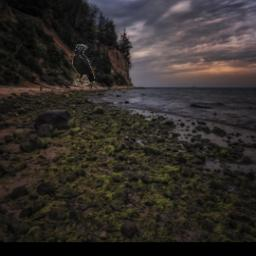Crow: (72, 44, 95, 85)
